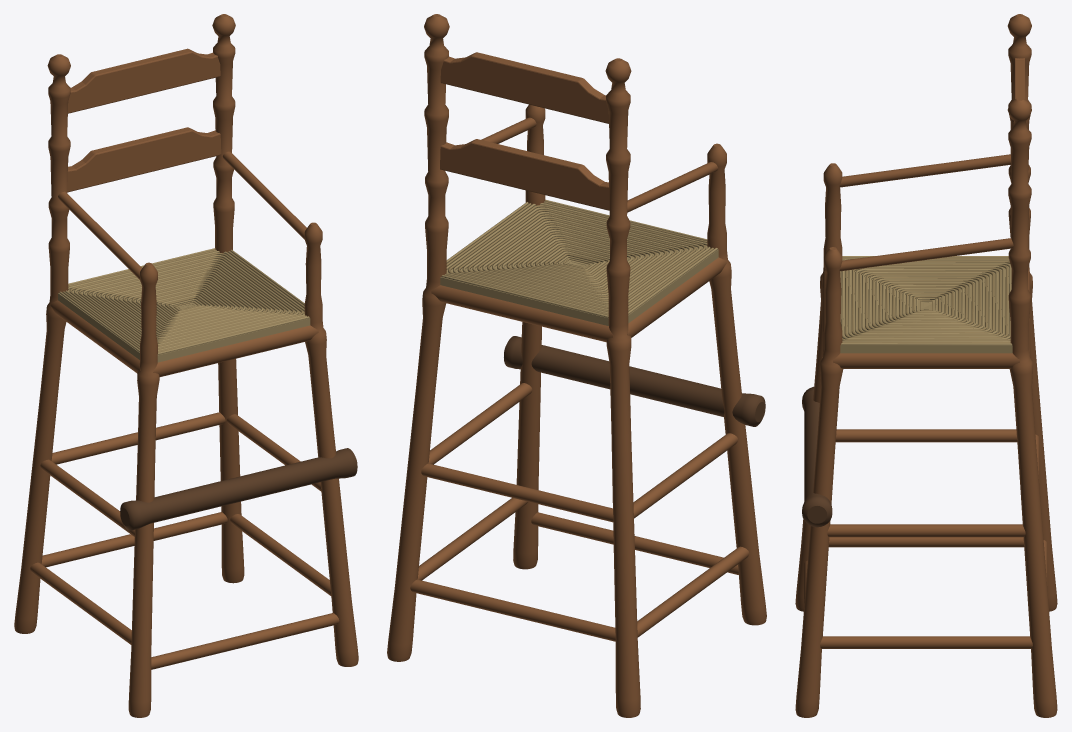
The model's file is A-NEW-20261026-WOOD-HIGH-CHAIR-001_LOD1_R2.glb.
3 views of the same model, side by side, from view 1: azimuth 30°, elevation 25°; view 2: azimuth 150°, elevation 25°; view 3: azimuth 270°, elevation 25° (orthographic). The views are drawn at different scales.
Visible parts, largest first — view 1: rear left turned post, front left turned post, front right turned post, rear right turned post, projecting dark footrest, scalloped back board 0, scalloped back board 1, front seat rail, low front stretcher, closed rush seat substrate, rear stretcher 0.13, rear stretcher 0.335 (+24 smaller); view 2: rear left turned post, rear right turned post, front left turned post, scalloped back board 0, projecting dark footrest, scalloped back board 1, front right turned post, rear seat rail, rear stretcher 0.13, closed rush seat substrate, rear stretcher 0.335, low front stretcher (+23 smaller); view 3: rear right turned post, front right turned post, closed rush seat substrate, rear left turned post, right seat rail, front left turned post, right side stretcher 0.335, right side stretcher 0.13, left side stretcher 0.335, projecting dark footrest, left side stretcher 0.13, right arm rail (+22 smaller).
Part boxes in pixels (<box>): rear left turned post: <box>14,54,70,633</box>; front left turned post: <box>128,262,159,717</box>; front right turned post: <box>304,222,358,666</box>; rear right turned post: <box>212,14,244,583</box>; projecting dark footrest: <box>120,448,357,530</box>; scalloped back board 0: <box>67,127,221,192</box>; scalloped back board 1: <box>68,48,220,113</box>; front seat rail: <box>153,325,318,376</box>; low front stretcher: <box>151,613,339,669</box>; closed rush seat substrate: <box>58,266,310,362</box>; rear stretcher 0.13: <box>41,512,227,567</box>; rear stretcher 0.335: <box>51,412,225,464</box>; rear left turned post: <box>605,58,640,717</box>; rear right turned post: <box>387,14,449,661</box>; front left turned post: <box>707,143,766,625</box>; scalloped back board 0: <box>440,139,609,210</box>; projecting dark footrest: <box>504,336,765,426</box>; scalloped back board 1: <box>440,52,608,123</box>; front right turned post: <box>513,104,545,569</box>; rear seat rail: <box>431,285,613,342</box>; rear stretcher 0.13: <box>410,579,615,641</box>; closed rush seat substrate: <box>440,235,718,325</box>; rear stretcher 0.335: <box>421,463,613,522</box>; low front stretcher: <box>531,512,738,574</box>; rear right turned post: <box>1007,98,1057,717</box>; front right turned post: <box>795,247,843,717</box>; closed rush seat substrate: <box>840,263,1012,353</box>; rear left turned post: <box>1007,14,1057,611</box>; right seat rail: <box>833,353,1019,368</box>; front left turned post: <box>795,163,842,611</box>; right side stretcher 0.335: <box>827,524,1025,537</box>; right side stretcher 0.13: <box>820,636,1032,648</box>; left side stretcher 0.335: <box>835,429,1017,442</box>; projecting dark footrest: <box>802,386,832,527</box>; left side stretcher 0.13: <box>828,537,1024,547</box>; right arm rail: <box>839,238,1013,271</box>.
Bounding box in the file's own units: 0.47 × 1.14 × 0.4489.
